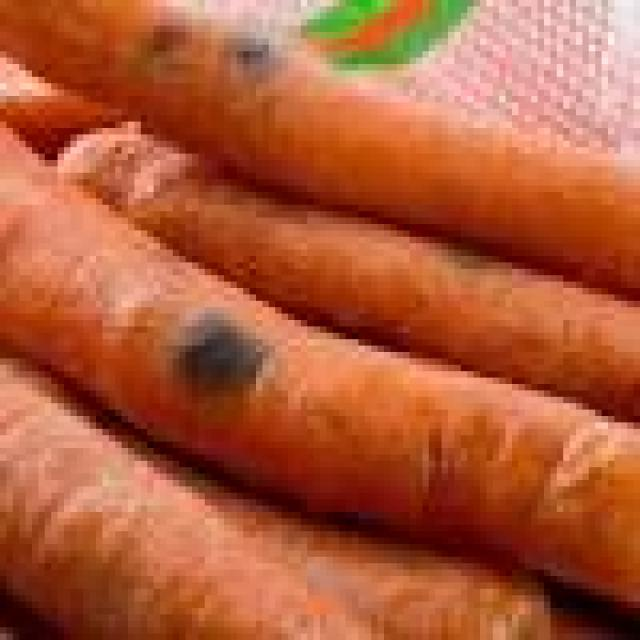Stale_Carrot: (78, 232, 394, 491), (120, 0, 426, 164)
